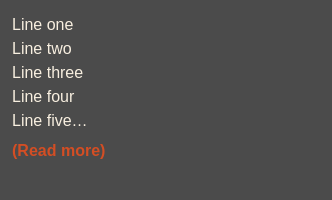
Test: ExpandableBio › expands and collapses a bio that the clamp cuts off
Click the button "(Read more)": (59, 151) x1=12 y1=143 x2=105 y2=159
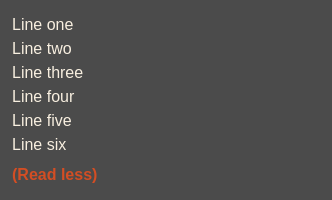
Check: the button "(Read less)" is expanded
Click the button "(Read less)": (55, 175) x1=12 y1=167 x2=97 y2=183
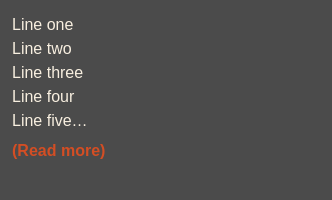
Check: the text "Line one Line two Line three Line four Line five Line six" has class "line-clamp-5", box x1=12 y1=16 x2=83 y2=153
